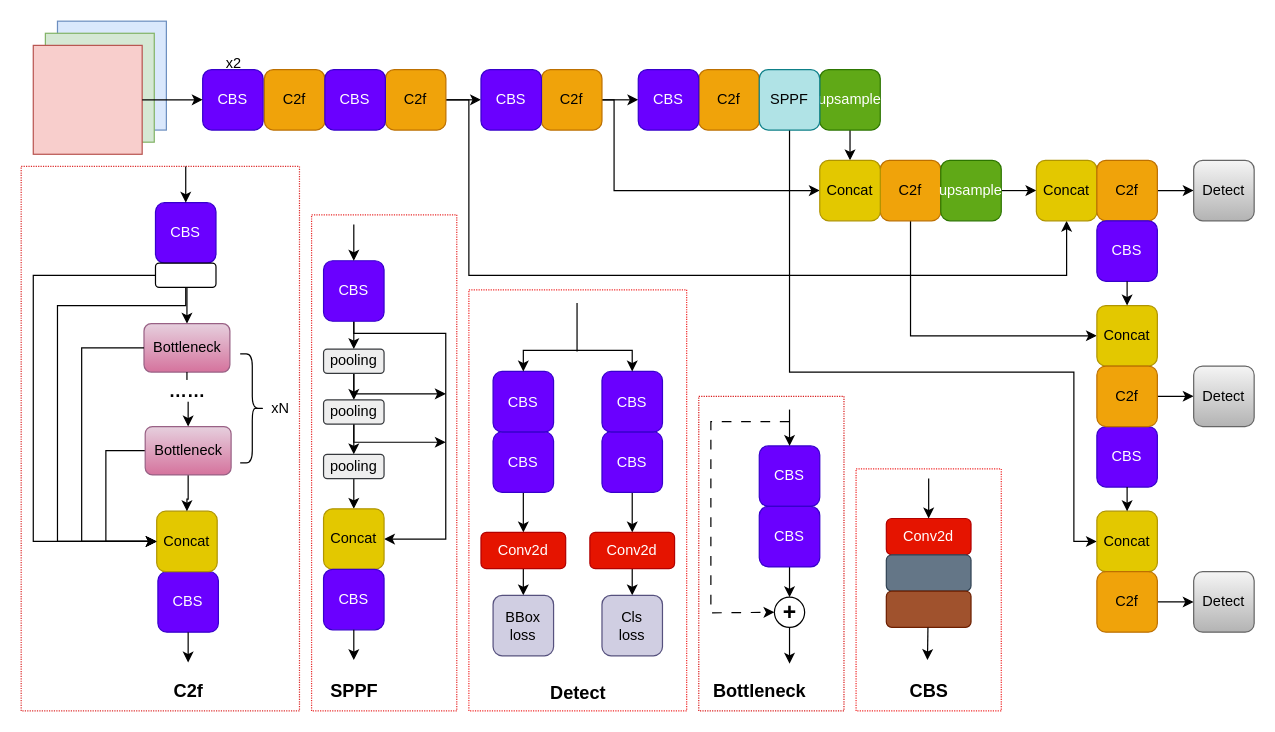
This 1275x732 diagram has some shape labels left out. The centre of each missing label's shape, as x and y in pixels:
BatchNorm: the point at 928,572
SiLU: the point at 928,608
Split: the point at 185,274
